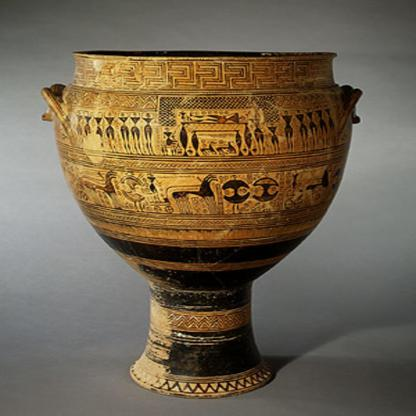vase: (38, 46, 364, 400)
